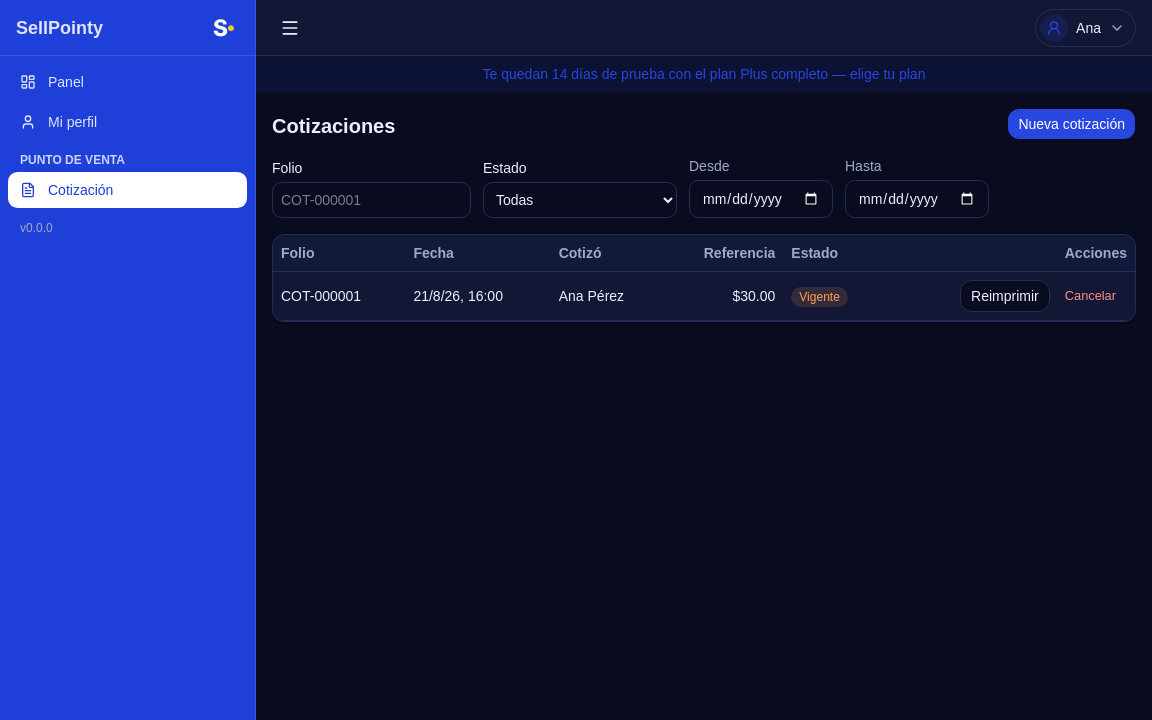
Test case: Cotización (F4-QUOTE-03 / F4-QUOTE-04) › cancelar desde la lista (F10-MANFIX-12) › el clic abre el aviso, a lo ancho de la tabla, y NO cancela
The image size is (1152, 720).
expect the text "COT-000001" is shown: met, box [273,272,405,320]
Click the button "Cancelar".
click(1090, 296)  # box [1054,282,1127,310]
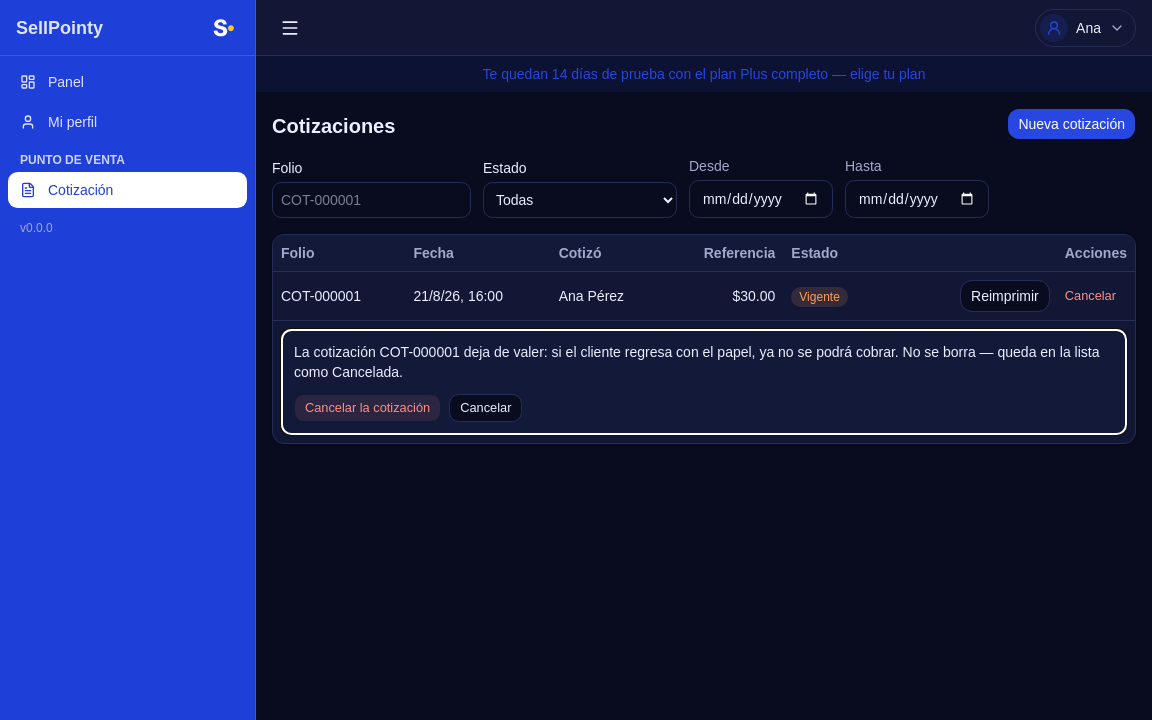
expect the dialog named "Cancelar la cotización COT-000001" shows "La cotización COT-000001 deja de valer: si el cliente regresa con el papel, ya no se podrá cobrar. No se borra — queda en la lista como Cancelada.": met, box [294,344,1100,380]
